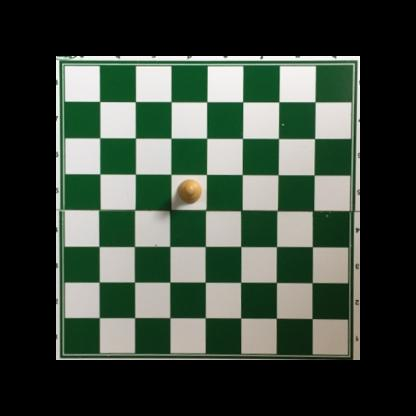white-pawn: (177, 179, 203, 206)
